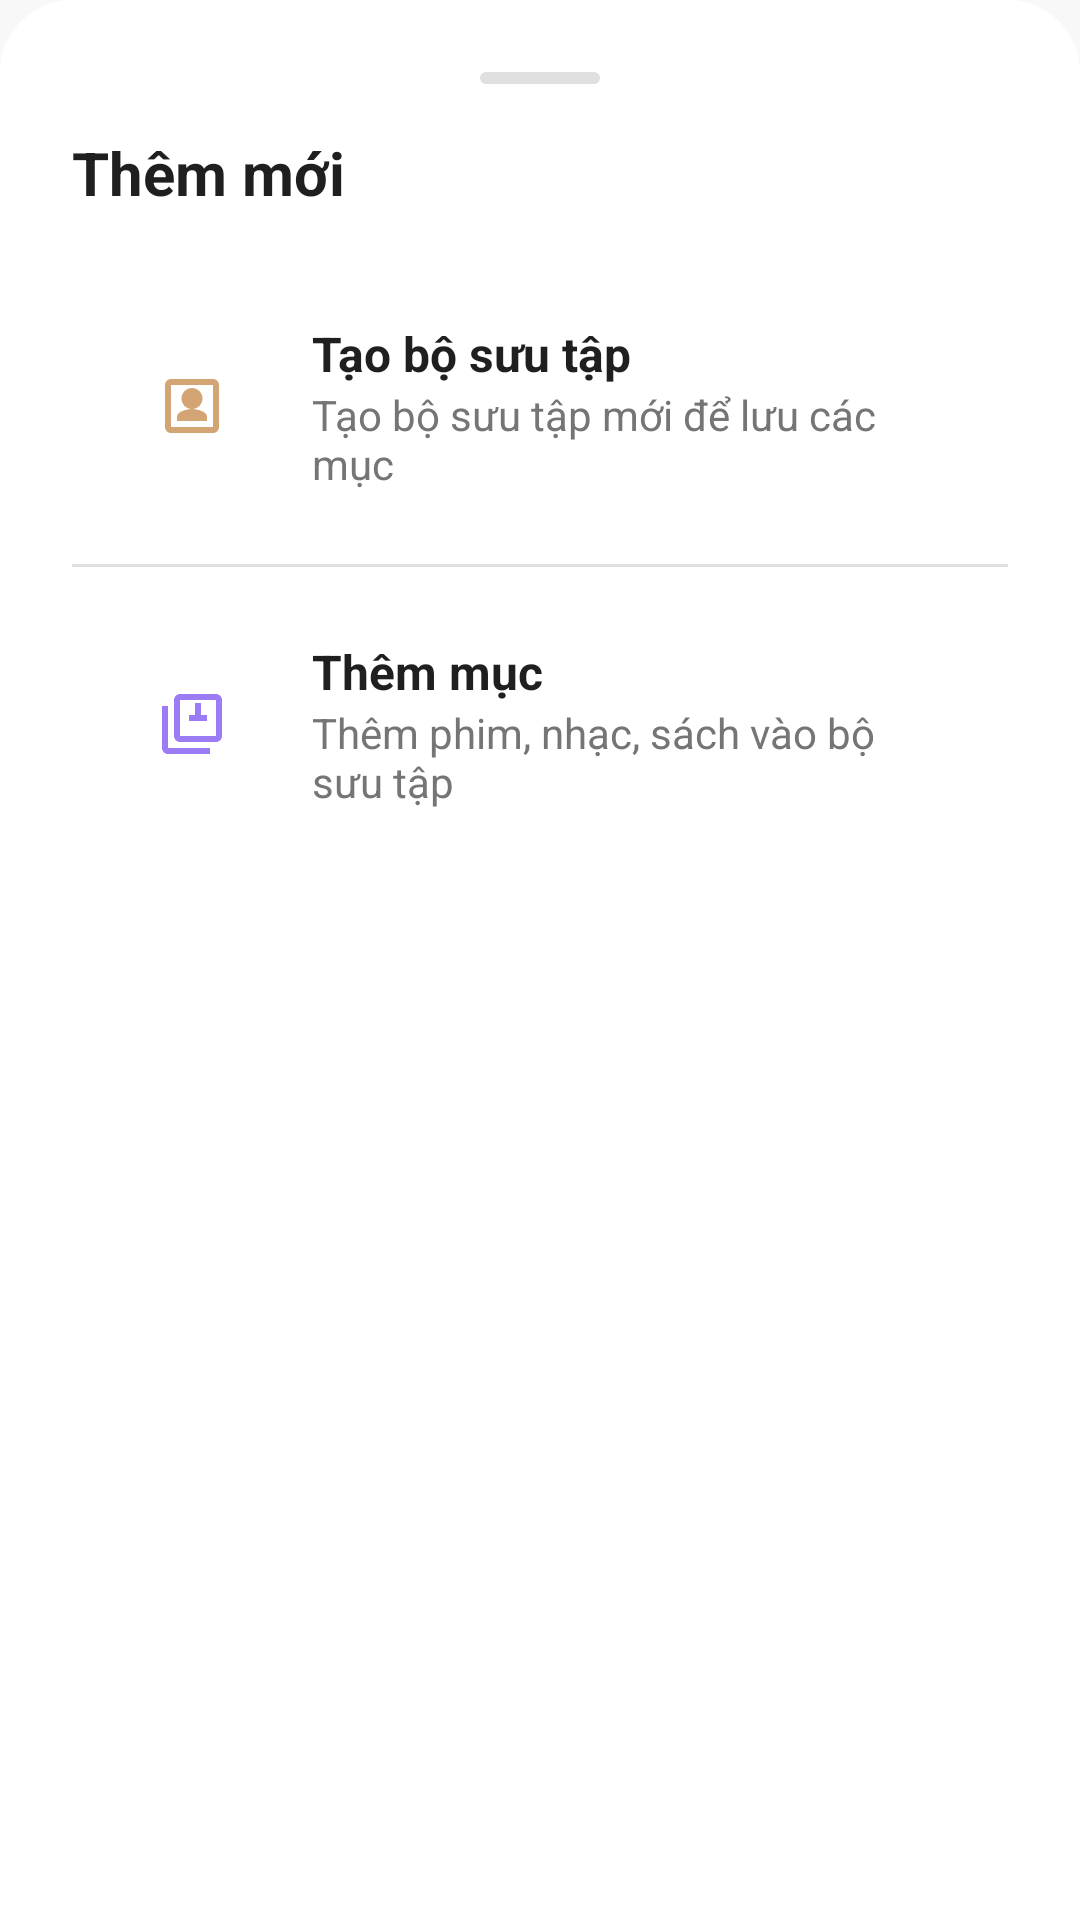

Point at icon controls on the screen. Image size 1080w x 1920h, points as [x,y].
add item: [192,724]
